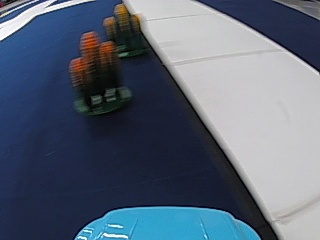corn: (67, 27, 128, 117), (99, 1, 148, 58)
